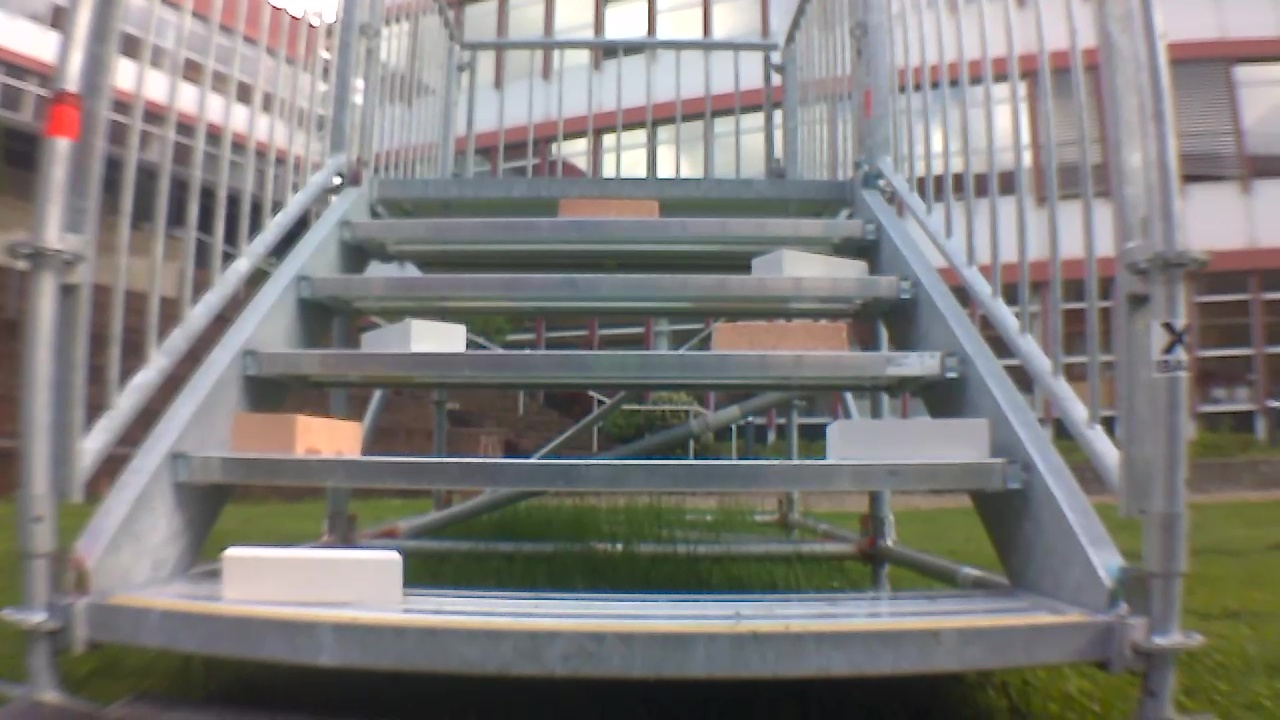brick: (219, 544, 414, 605), (821, 418, 996, 467), (228, 414, 371, 457), (705, 319, 851, 357), (751, 246, 879, 280), (352, 319, 471, 354), (552, 197, 664, 220)
edge: (81, 600, 1126, 655), (169, 457, 1031, 487), (239, 351, 966, 381), (291, 274, 917, 300), (373, 179, 855, 206), (336, 220, 880, 242)
stairs: (22, 0, 1174, 701)
steps: (58, 175, 1126, 659)
